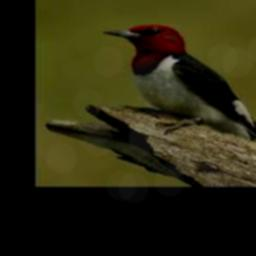Woodpecker: (102, 24, 256, 145)
